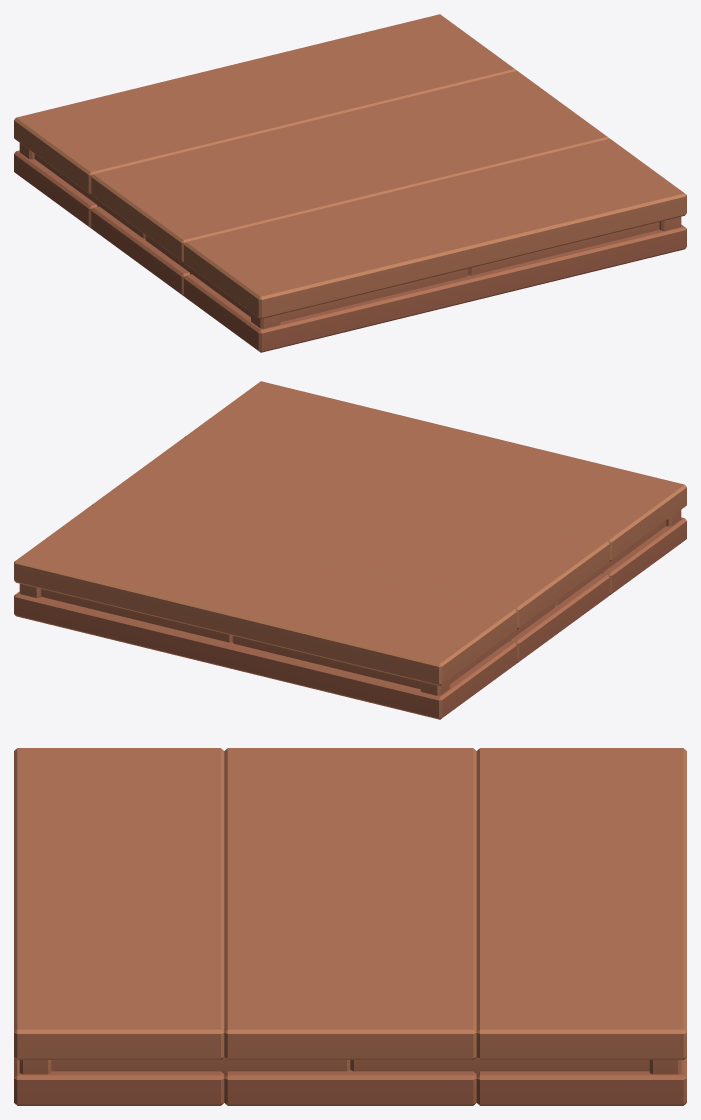
The model's file is floor-wood-4x4.glb.
3 renders of one model, top to bottom at view 1: azimuth 30°, elevation 25°; view 2: azimuth 150°, elevation 25°; view 3: azimuth 270°, elevation 25°, orthographic. The views are drawn at different scales.
Visible parts, largest first — view 1: floor_wood_4x4; view 2: floor_wood_4x4; view 3: floor_wood_4x4.
Part boxes in pixels (box(x1,y1,x2,y2)): floor_wood_4x4: box(14, 14, 686, 352); floor_wood_4x4: box(14, 381, 686, 719); floor_wood_4x4: box(14, 748, 686, 1105).
Bounding box in the file's own units: 4 × 0.5 × 4.
1 material, 1 textured.
